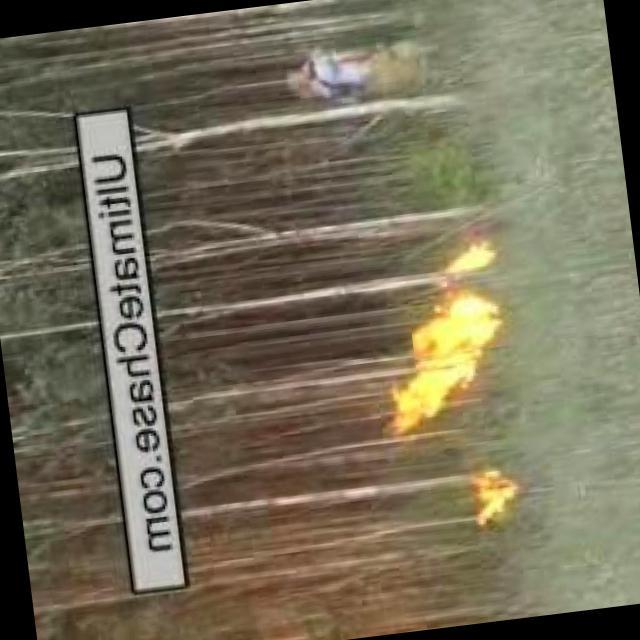Fire: (370, 293, 518, 432), (435, 235, 512, 291), (474, 464, 528, 531)
